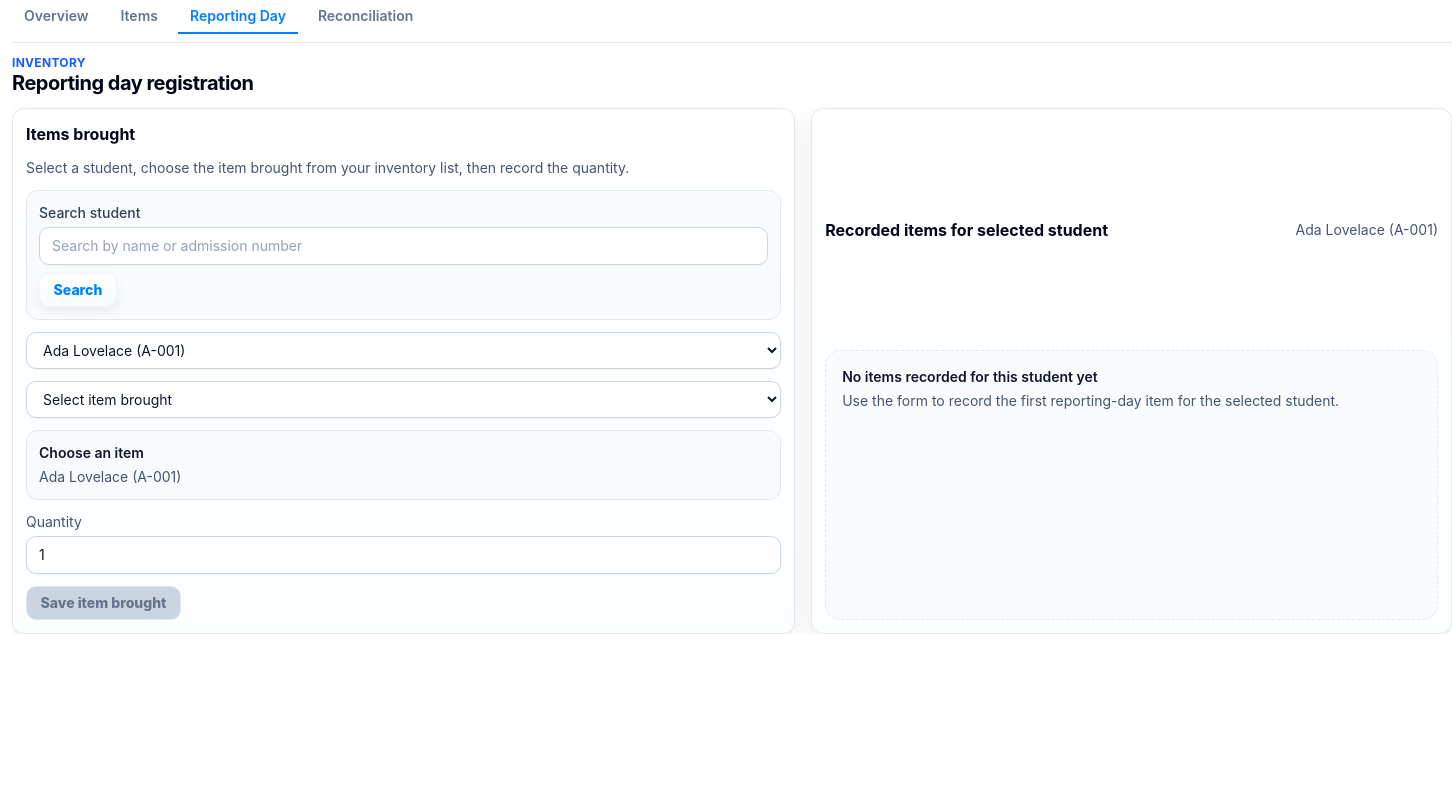
Inventory module pages › allows an admin to search students before recording reporting-day items
Check: the dropdown named "Select student" is shown, box left=26, top=332, right=781, bottom=369
In the field labelled "Search student": (404, 246) left=39, top=227, right=768, bottom=265, type "Grace"
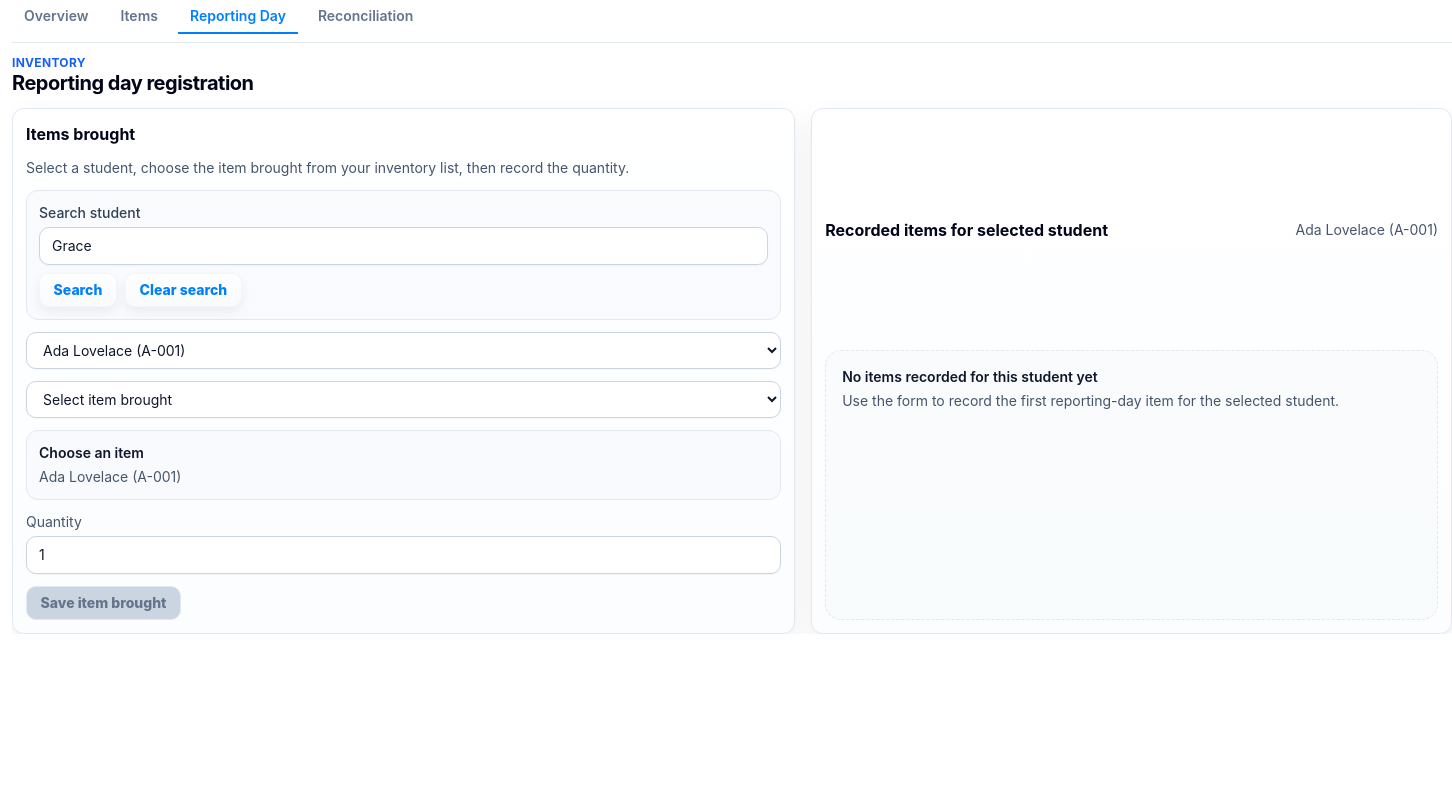
Click the button "Search": (78, 290) left=39, top=273, right=117, bottom=307
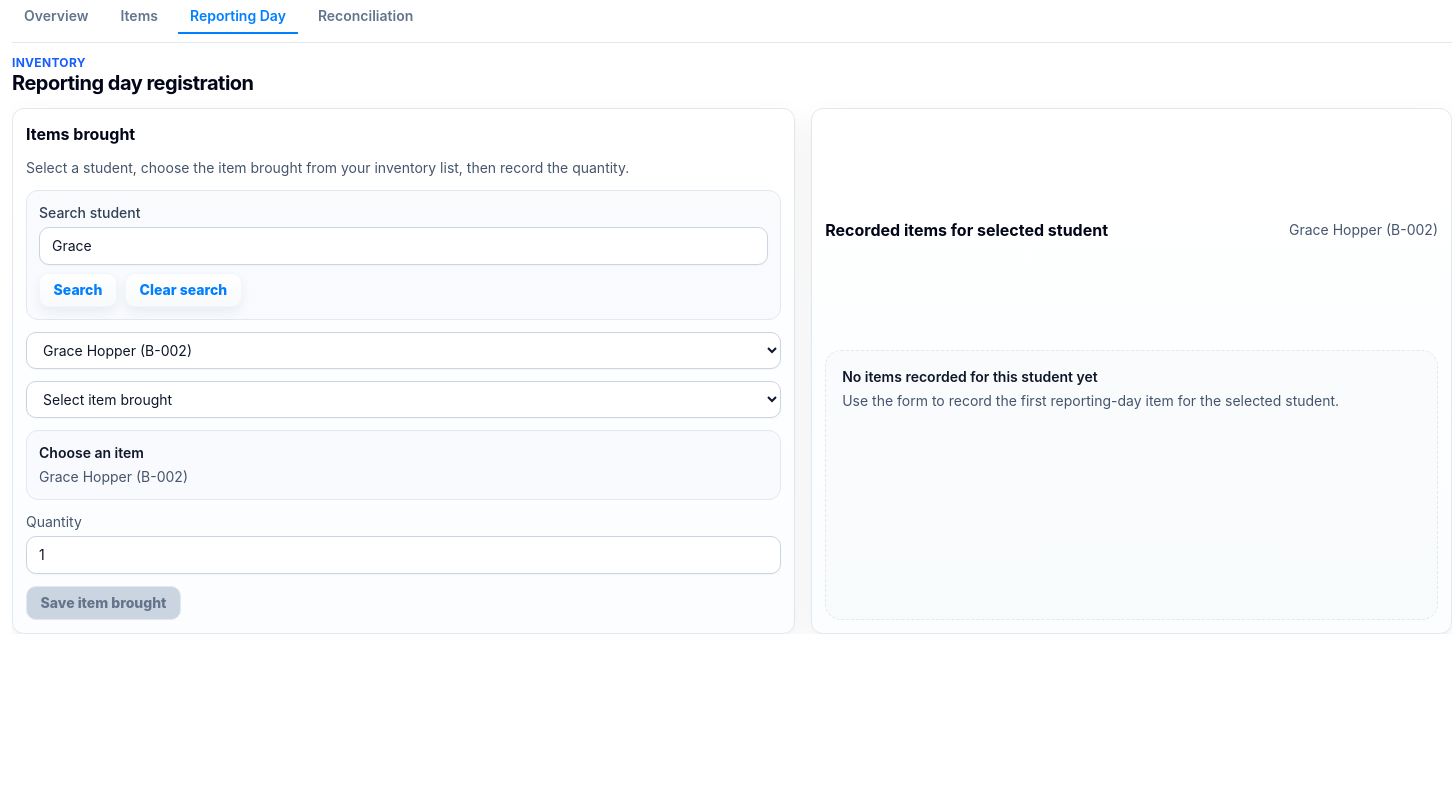
Check: the text "Ada Lovelace (A-001)" is gone
